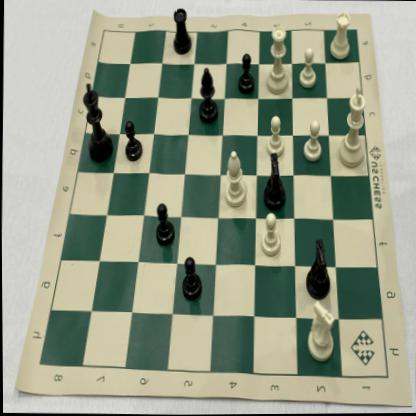black-bishop: (192, 62, 222, 128)
black-king: (78, 75, 116, 167)
black-knight: (301, 234, 335, 303), (258, 150, 290, 215)
black-pawn: (177, 249, 204, 303), (151, 198, 177, 251), (233, 48, 259, 99), (122, 116, 146, 165)
black-rook: (170, 5, 195, 61)
white-bishop: (222, 144, 250, 211)
white-king: (334, 84, 372, 170)
white-knight: (305, 297, 338, 363)
white-pawn: (256, 208, 287, 262), (298, 115, 324, 166), (294, 45, 320, 92), (262, 111, 285, 159)
white-queen: (262, 21, 291, 97)
white-rook: (326, 9, 354, 64)
